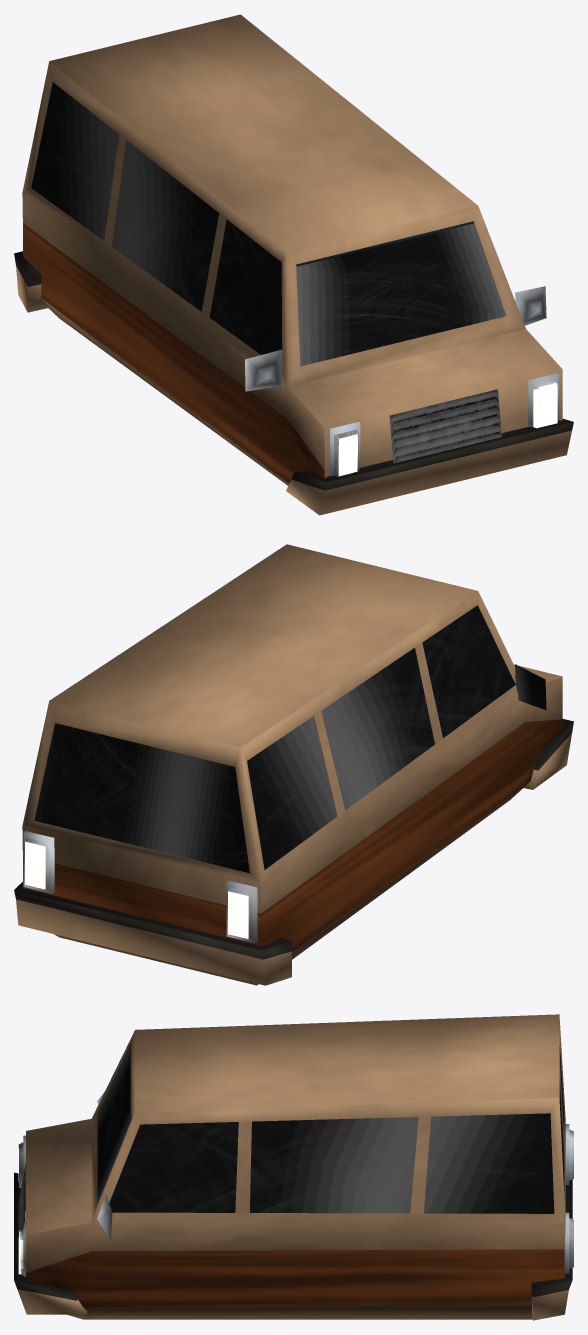
Rendered from EnemyCar_2_v3.fbx.
3 views of the same model, one above another, from view 1: azimuth 30°, elevation 25°; view 2: azimuth 150°, elevation 25°; view 3: azimuth 270°, elevation 25° (orthographic). The views are drawn at different scales.
Parts seen in each view (by area): view 1: Van.002; view 2: Van.002; view 3: Van.002.
Boxes of the visible parts, x1,y1,x2,y2 form: Van.002: [14, 14, 573, 515]; Van.002: [14, 544, 573, 985]; Van.002: [14, 1014, 573, 1320].
Bounding box in the file's own units: 75.86 × 59.47 × 137.
